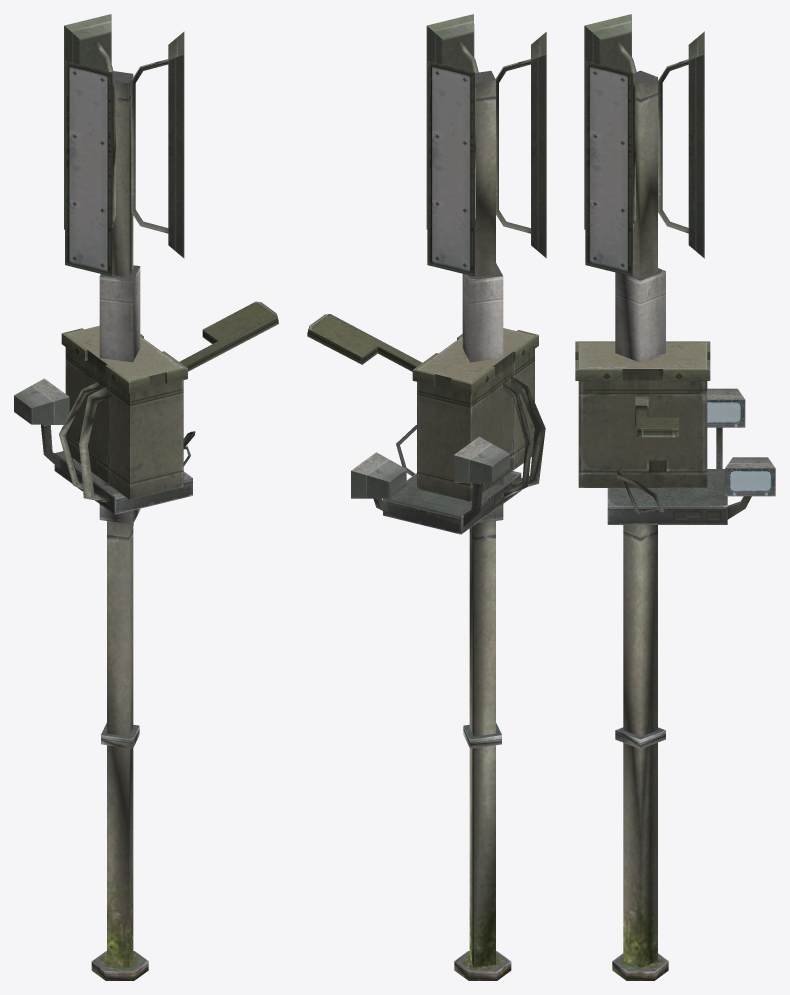
The model's file is Building_Mainexit06.glb.
The picture shows the model from 3 angles, left to right: view 1: azimuth 30°, elevation 25°; view 2: azimuth 150°, elevation 25°; view 3: azimuth 270°, elevation 25°; orthographic projection.
Visible parts, largest first — view 1: xiutz_mainexit_06; view 2: xiutz_mainexit_06; view 3: xiutz_mainexit_06.
Part boxes in pixels (x1,y1,x2,y2): xiutz_mainexit_06: (14, 14, 278, 980); xiutz_mainexit_06: (307, 14, 546, 980); xiutz_mainexit_06: (575, 14, 775, 980).
Bounding box in the file's own units: 2.14 × 8.68 × 1.7.
Materials: 1 (1 with a texture image).
